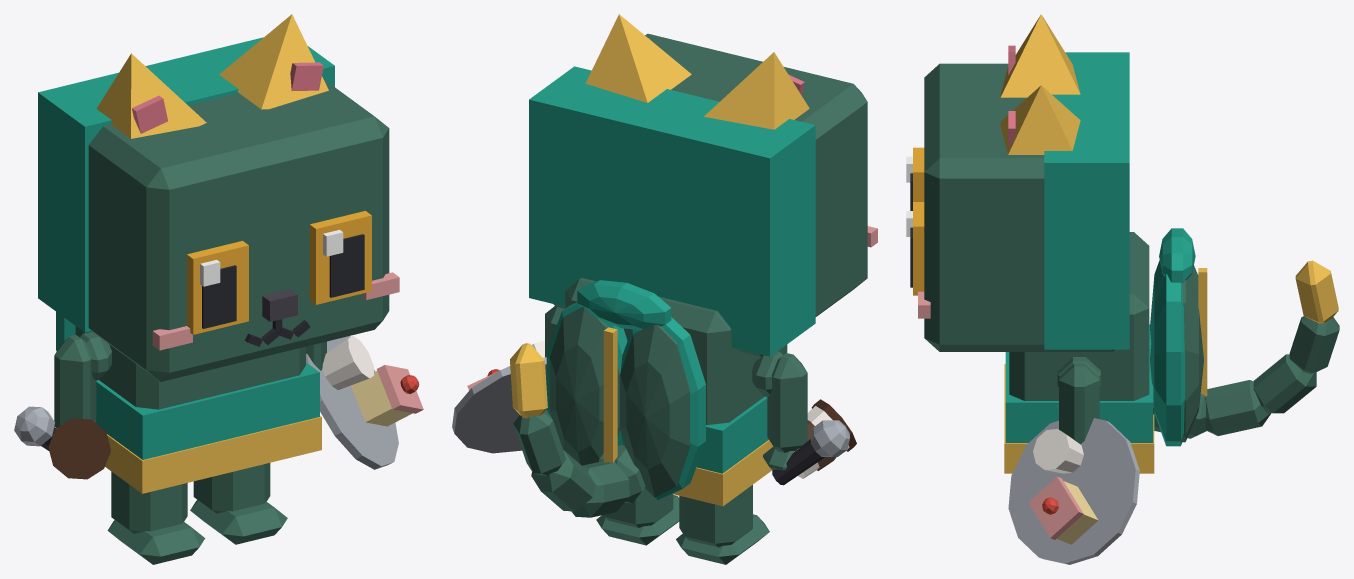
File: CatCafe_Cat_Scarab_Work.glb
3 views of the same model, side by side, from view 1: azimuth 30°, elevation 25°; view 2: azimuth 150°, elevation 25°; view 3: azimuth 270°, elevation 25° (orthographic). The views are drawn at different scales.
Parts seen in each view (by area): view 1: CatCafe_Cat_Scarab_Work_Head, CatCafe_Cat_Scarab_Work_Body, CatCafe_Cat_Scarab_Work_Held_Waiter, CatCafe_Cat_Scarab_Work_EarL, CatCafe_Cat_Scarab_Work_LegB2, CatCafe_Cat_Scarab_Work_LegB1, CatCafe_Cat_Scarab_Work_Eye1, CatCafe_Cat_Scarab_Work_Eye2, CatCafe_Cat_Scarab_Work_EarR, CatCafe_Cat_Scarab_Work_LegF2, CatCafe_Cat_Scarab_Work_Held_Barista, CatCafe_Cat_Scarab_Work_Held_Entertainer; view 2: CatCafe_Cat_Scarab_Work_Head, CatCafe_Cat_Scarab_Work_Prop, CatCafe_Cat_Scarab_Work_Body, CatCafe_Cat_Scarab_Work_Tail, CatCafe_Cat_Scarab_Work_EarL, CatCafe_Cat_Scarab_Work_LegB2, CatCafe_Cat_Scarab_Work_Held_Waiter, CatCafe_Cat_Scarab_Work_EarR, CatCafe_Cat_Scarab_Work_LegF2, CatCafe_Cat_Scarab_Work_LegB1, CatCafe_Cat_Scarab_Work_Held_Entertainer, CatCafe_Cat_Scarab_Work_Glow (+1 smaller); view 3: CatCafe_Cat_Scarab_Work_Head, CatCafe_Cat_Scarab_Work_Held_Waiter, CatCafe_Cat_Scarab_Work_Body, CatCafe_Cat_Scarab_Work_Tail, CatCafe_Cat_Scarab_Work_Prop, CatCafe_Cat_Scarab_Work_EarR, CatCafe_Cat_Scarab_Work_EarL, CatCafe_Cat_Scarab_Work_LegF1, CatCafe_Cat_Scarab_Work_Eye1, CatCafe_Cat_Scarab_Work_Glow, CatCafe_Cat_Scarab_Work_Eye2.
Boxes of the visible parts, x1=… form: CatCafe_Cat_Scarab_Work_Head: x1=38, y1=37, x2=399, y2=381; CatCafe_Cat_Scarab_Work_Body: x1=75, y1=326, x2=321, y2=493; CatCafe_Cat_Scarab_Work_Held_Waiter: x1=306, y1=335, x2=423, y2=469; CatCafe_Cat_Scarab_Work_EarL: x1=219, y1=14, x2=328, y2=109; CatCafe_Cat_Scarab_Work_LegB2: x1=107, y1=471, x2=205, y2=564; CatCafe_Cat_Scarab_Work_LegB1: x1=190, y1=463, x2=287, y2=544; CatCafe_Cat_Scarab_Work_Eye1: x1=309, y1=211, x2=371, y2=304; CatCafe_Cat_Scarab_Work_Eye2: x1=187, y1=241, x2=248, y2=334; CatCafe_Cat_Scarab_Work_EarR: x1=96, y1=53, x2=206, y2=138; CatCafe_Cat_Scarab_Work_LegF2: x1=54, y1=335, x2=96, y2=427; CatCafe_Cat_Scarab_Work_Held_Barista: x1=48, y1=418, x2=110, y2=479; CatCafe_Cat_Scarab_Work_Held_Entertainer: x1=14, y1=406, x2=55, y2=450; CatCafe_Cat_Scarab_Work_Head: x1=529, y1=33, x2=877, y2=356; CatCafe_Cat_Scarab_Work_Prop: x1=546, y1=280, x2=705, y2=500; CatCafe_Cat_Scarab_Work_Body: x1=565, y1=278, x2=787, y2=506; CatCafe_Cat_Scarab_Work_Tail: x1=510, y1=343, x2=645, y2=517; CatCafe_Cat_Scarab_Work_EarL: x1=585, y1=14, x2=691, y2=102; CatCafe_Cat_Scarab_Work_LegB2: x1=676, y1=485, x2=769, y2=564; CatCafe_Cat_Scarab_Work_Held_Waiter: x1=452, y1=340, x2=546, y2=453; CatCafe_Cat_Scarab_Work_EarR: x1=704, y1=52, x2=809, y2=129; CatCafe_Cat_Scarab_Work_LegF2: x1=763, y1=353, x2=807, y2=470; CatCafe_Cat_Scarab_Work_LegB1: x1=596, y1=488, x2=679, y2=545; CatCafe_Cat_Scarab_Work_Held_Entertainer: x1=772, y1=420, x2=849, y2=485; CatCafe_Cat_Scarab_Work_Glow: x1=603, y1=327, x2=617, y2=462; CatCafe_Cat_Scarab_Work_Head: x1=918, y1=52, x2=1129, y2=351; CatCafe_Cat_Scarab_Work_Held_Waiter: x1=1008, y1=418, x2=1139, y2=564; CatCafe_Cat_Scarab_Work_Body: x1=1004, y1=232, x2=1154, y2=473; CatCafe_Cat_Scarab_Work_Tail: x1=1153, y1=260, x2=1339, y2=438; CatCafe_Cat_Scarab_Work_Prop: x1=1150, y1=228, x2=1203, y2=446; CatCafe_Cat_Scarab_Work_EarR: x1=1000, y1=14, x2=1080, y2=97; CatCafe_Cat_Scarab_Work_EarL: x1=1000, y1=85, x2=1080, y2=154; CatCafe_Cat_Scarab_Work_LegF1: x1=1059, y1=363, x2=1099, y2=444; CatCafe_Cat_Scarab_Work_Eye1: x1=906, y1=202, x2=924, y2=295; CatCafe_Cat_Scarab_Work_Glow: x1=1198, y1=268, x2=1207, y2=396; CatCafe_Cat_Scarab_Work_Eye2: x1=906, y1=147, x2=924, y2=210.
Bounding box in the file's own units: 1.53 × 1.93 × 1.62.
1 material, 1 textured.
